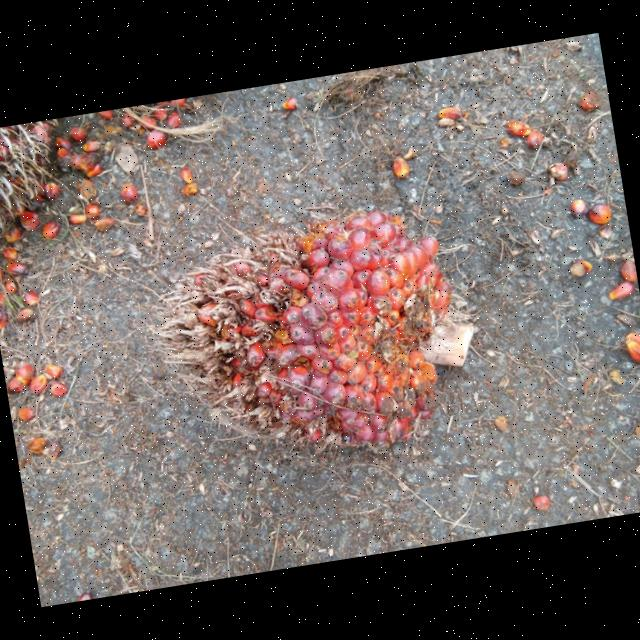Ripe: (166, 198, 454, 455)
